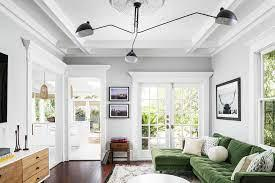TV: (0, 52, 10, 122)
console: (0, 144, 56, 183)
door: (69, 75, 102, 161), (136, 83, 171, 159), (169, 79, 201, 155)
light: (69, 0, 239, 66)
sofa: (151, 132, 275, 182)
table: (124, 171, 191, 183), (108, 140, 132, 164)
